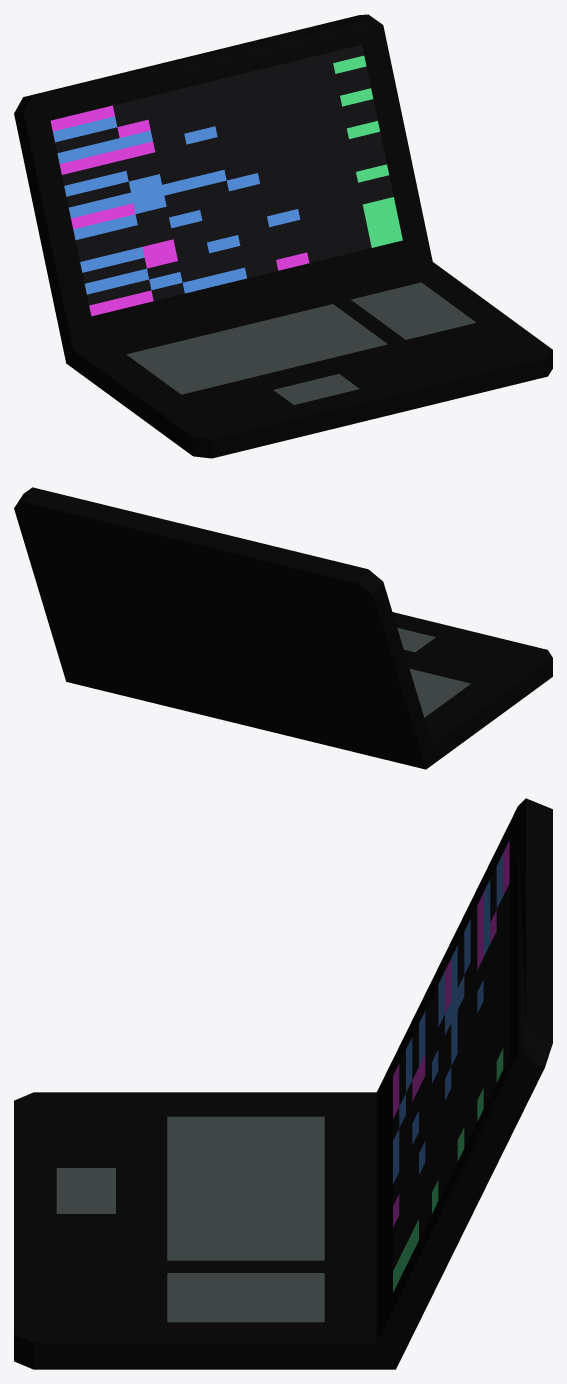
Rendered from laptop.fbx.
The picture shows the model from 3 angles, top to bottom: view 1: azimuth 30°, elevation 25°; view 2: azimuth 150°, elevation 25°; view 3: azimuth 270°, elevation 25°; orthographic projection. The views are drawn at different scales.
Parts seen in each view (by area): view 1: laptop(Clone); view 2: laptop(Clone); view 3: laptop(Clone).
Part boxes in pixels (x1,y1,x2,y2): laptop(Clone): [14, 14, 552, 458]; laptop(Clone): [14, 487, 552, 769]; laptop(Clone): [14, 798, 552, 1369].
Bounding box in the file's own units: 132 × 80.9 × 120.
